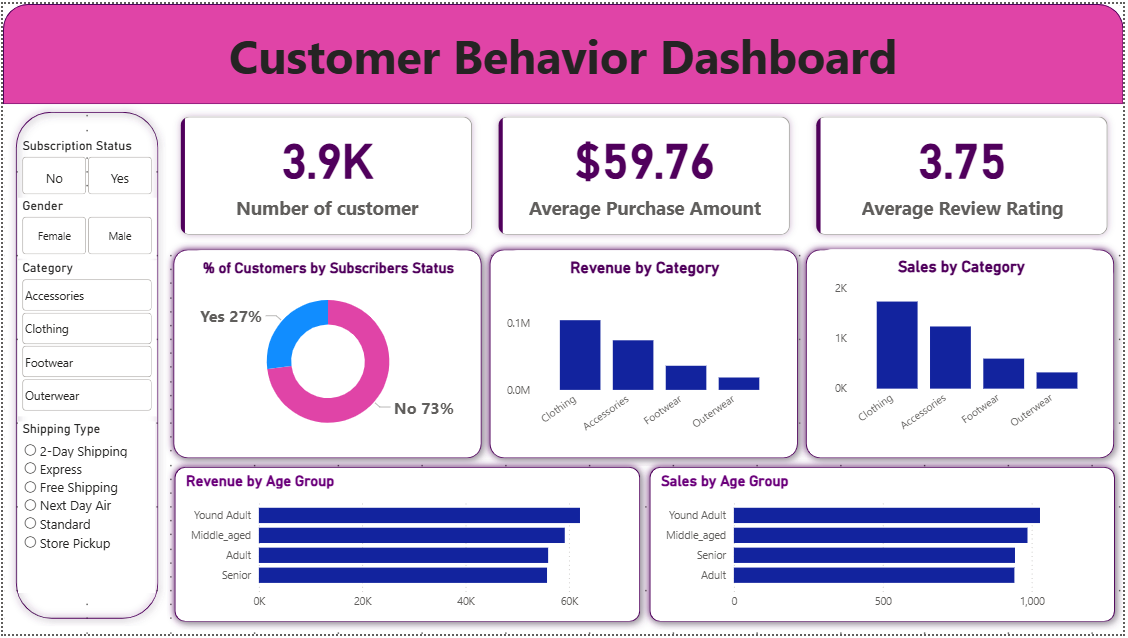

The page's visual inventory and layout, read from the dashboard file:
{"tool":"powerbi","page":{"name":"Page 1","canvas":[1280,720],"ordinal":0},"visuals":[{"type":"cardVisual","fields":{"Data":["Public customer.Number of customer","Public customer.Average Purchase Amount","Public customer.Average Review Rating"]},"box":[187,113.5,1093.4,167.1],"z":0},{"type":"shape","box":[0,0,1280.4,114.7],"z":1000},{"type":"textbox","box":[0,17.5,1280.4,97.2],"z":2000},{"type":"shape","box":[547.6,271,370.3,256.8],"z":3000},{"type":"shape","box":[186.1,271,370.3,256.8],"z":4000},{"type":"shape","box":[909.2,271,370.3,256.8],"z":5000},{"type":"shape","box":[6.2,114.7,180.8,597.2],"z":6000},{"type":"columnChart","title":"Revenue by Category","fields":{"Category":["Public customer.CATEGORY"],"Y":["Sum(Public customer.PURCHASE_AMOUNT)"]},"box":[559.8,281.8,345.4,234.4],"z":7000},{"type":"columnChart","title":"Sales by Category","fields":{"Category":["Public customer.CATEGORY"],"Y":["CountNonNull(Public customer.CUSTOMER_ID)"]},"box":[920.1,280.5,349.1,234.4],"z":8000},{"type":"donutChart","title":"%  of Customers by Subscribers Status","fields":{"Category":["Public customer.SUBSCRIPTION_STATUS"],"Y":["CountNonNull(Public customer.CUSTOMER_ID)"]},"box":[198.2,281.8,345.4,234.4],"z":9000},{"type":"advancedSlicerVisual","title":"Subscription Status","fields":{"Values":["Public customer.SUBSCRIPTION_STATUS"]},"box":[17.5,153.4,158.3,69.8],"z":10000},{"type":"advancedSlicerVisual","title":"Gender","fields":{"Values":["Public customer.GENDER"]},"box":[17.5,221.9,158.3,69.8],"z":11000},{"type":"advancedSlicerVisual","title":"Category","fields":{"Values":["Public customer.CATEGORY"]},"box":[17.5,293,158.3,178.3],"z":12000},{"type":"listSlicer","title":"Shipping Type","fields":{"Values":["Public customer.SHIPPING_TYPE"]},"box":[17.5,477.5,157.1,195.7],"z":13000},{"type":"shape","box":[187,520,550,195],"z":14000},{"type":"shape","box":[730.6,520,549.8,195],"z":15000},{"type":"clusteredBarChart","title":"Sales by Age Group","fields":{"Category":["Public customer.AGE_GROUP"],"Y":["CountNonNull(Public customer.CUSTOMER_ID)"]},"box":[744.3,532,522.4,172],"z":16000},{"type":"clusteredBarChart","title":"Revenue by Age Group","fields":{"Category":["Public customer.AGE_GROUP"],"Y":["Sum(Public customer.PURCHASE_AMOUNT)"]},"box":[200.7,531.1,522.4,172.1],"z":17000}]}

Visuals, with their boxes in screenshot pixels (x1, y1, x2, y2), scaled from the page's 1280x720 canvas onto the 1128x638 screenshot:
cardVisual - Public customer.Number of customer x Public customer.Average Purchase Amount: 165/101/1127/249
shape: 0/0/1127/102
textbox: 0/16/1127/102
shape: 483/240/809/468
shape: 164/240/490/468
shape: 801/240/1127/468
shape: 5/102/165/631
"Revenue by Category" columnChart: 493/250/798/457
"Sales by Category" columnChart: 811/249/1118/456
"%  of Customers by Subscribers Status" donutChart: 175/250/479/457
"Subscription Status" advancedSlicerVisual: 15/136/155/198
"Gender" advancedSlicerVisual: 15/197/155/258
"Category" advancedSlicerVisual: 15/260/155/418
"Shipping Type" listSlicer: 15/423/154/597
shape: 165/461/649/634
shape: 644/461/1127/634
"Sales by Age Group" clusteredBarChart: 656/471/1116/624
"Revenue by Age Group" clusteredBarChart: 177/471/637/623
